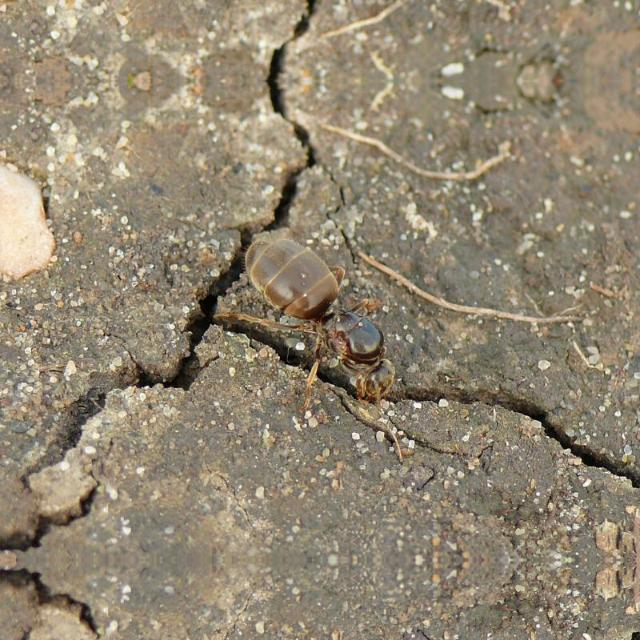Lasius: (212, 223, 443, 417)
